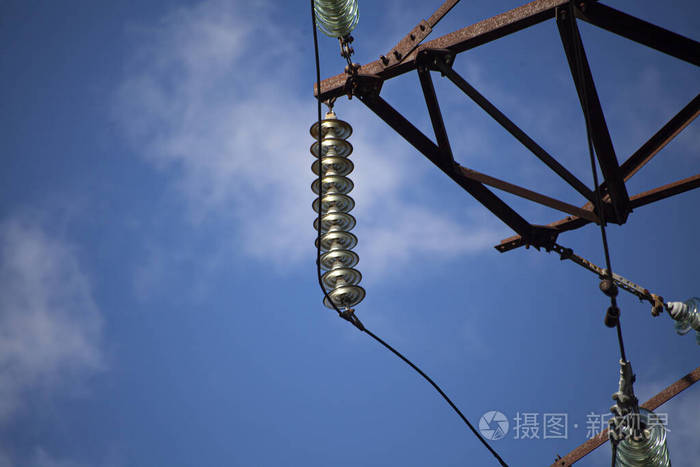insulator: (308, 118, 371, 311), (612, 407, 673, 467), (311, 1, 364, 39)
